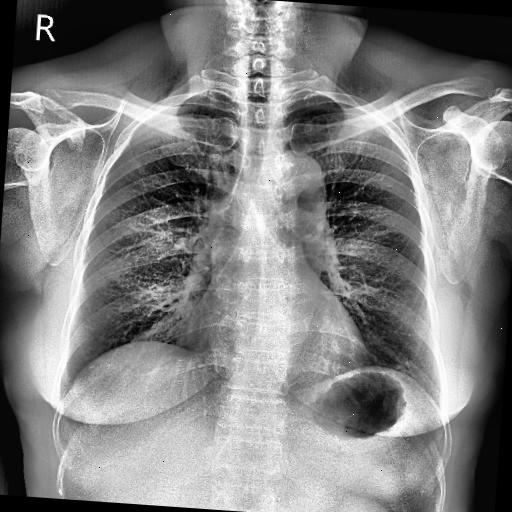0- Aortic enlargement: (264, 149, 330, 228), (258, 148, 330, 214), (272, 150, 331, 222)
